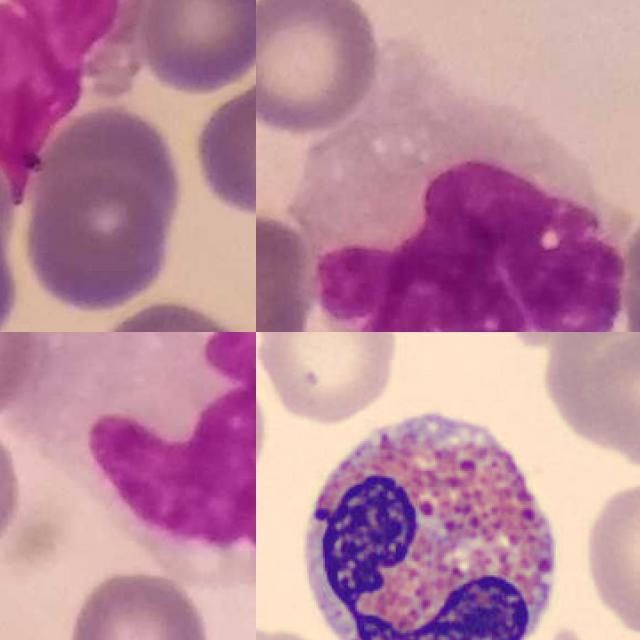Eosinophil: (285, 389, 577, 640), (0, 0, 146, 203)
Monocyte: (304, 112, 627, 332), (43, 332, 256, 577)
RBC: (256, 332, 401, 428), (575, 472, 640, 640), (598, 332, 640, 483)
